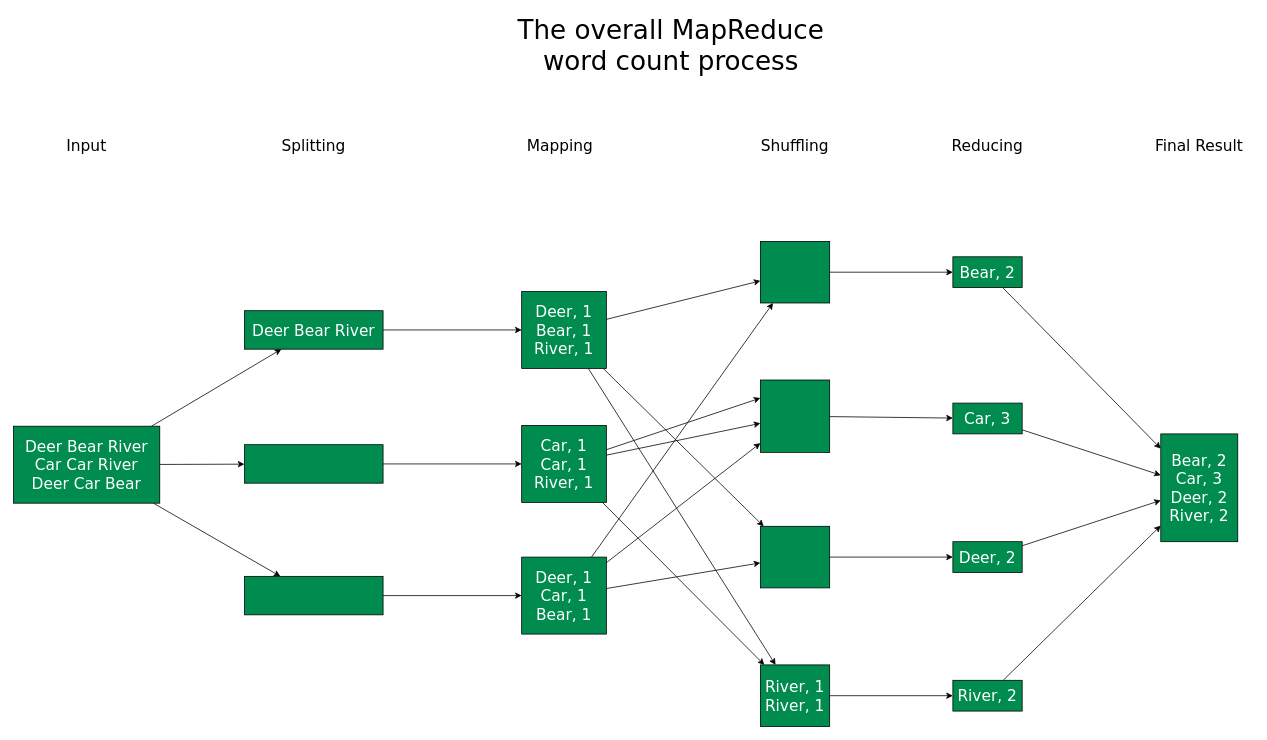
Some shapes in this 1267 by 740 pixel diagram are drawn without their labels. Each missing label, with the box of its shape:
Bear, 1 Bear, 1: (760, 241, 830, 303)
Car Car River: (244, 444, 383, 483)
Car, 1 Car, 1 Car, 1: (760, 379, 830, 452)
Deer Car Bear: (244, 576, 383, 615)
Deer, 1 Deer, 1: (760, 526, 830, 588)
